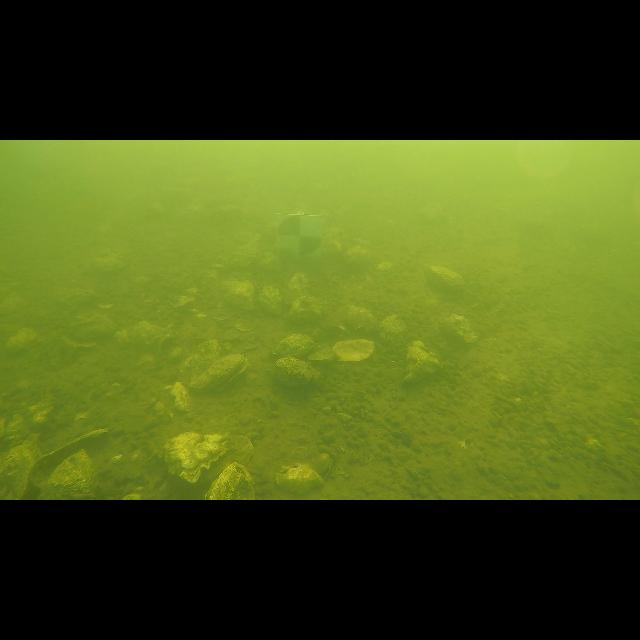Oyster-Closed: (164, 432, 238, 482), (39, 450, 98, 500), (0, 434, 41, 499), (188, 352, 244, 393), (62, 311, 120, 344), (205, 462, 255, 500), (180, 339, 221, 380), (404, 340, 441, 382), (276, 464, 324, 494), (425, 266, 464, 300), (276, 356, 319, 386), (441, 315, 478, 348), (272, 334, 318, 358), (224, 278, 254, 310), (346, 306, 380, 332), (289, 296, 322, 322), (380, 315, 406, 347), (259, 285, 284, 315), (344, 245, 370, 269), (288, 272, 309, 291)
Oyster-Open: (309, 339, 375, 361)
